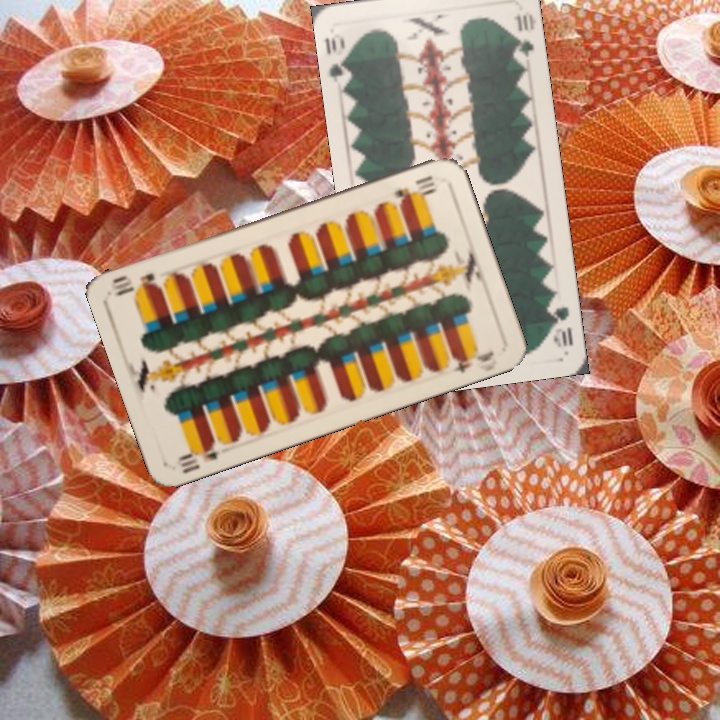E10: (173, 436, 223, 476), (389, 171, 438, 203)
G10: (322, 30, 354, 86), (545, 302, 576, 350)
